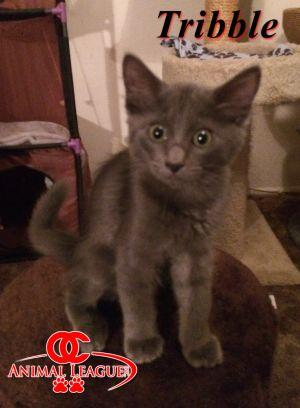rblue: (112, 39, 269, 211)
